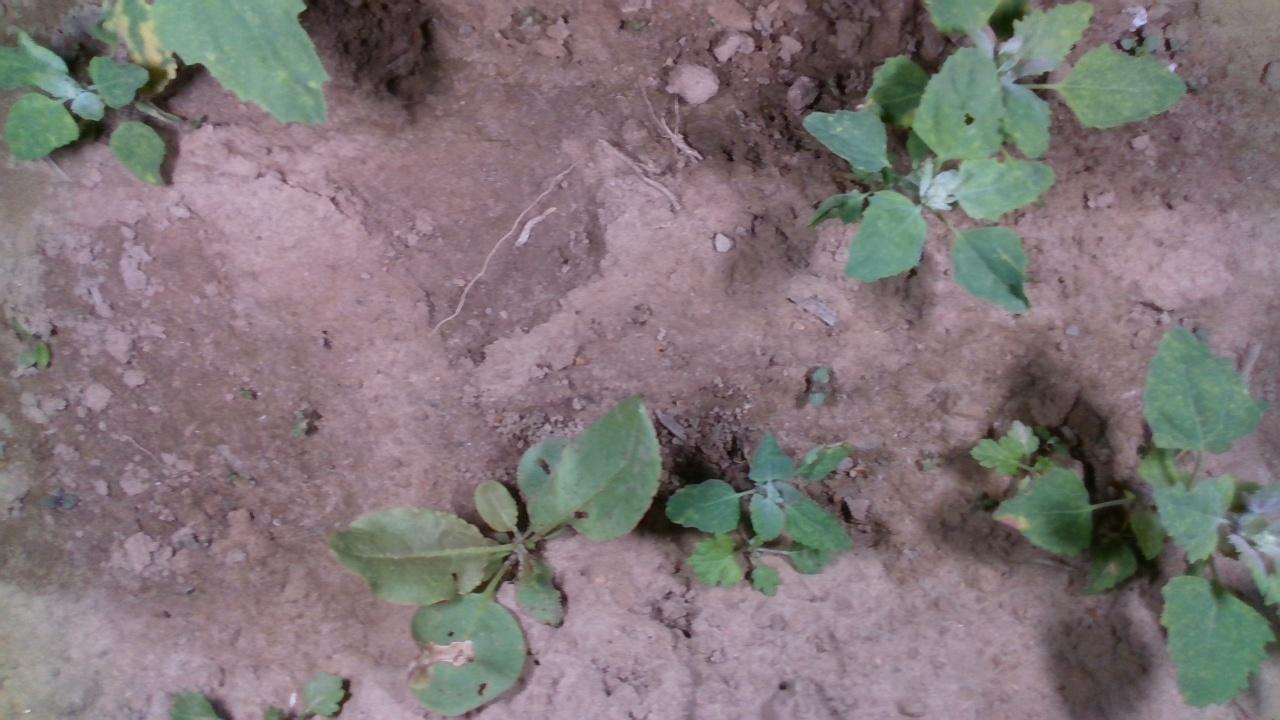weed: (805, 361, 831, 410), (288, 406, 310, 441), (307, 325, 321, 351)
